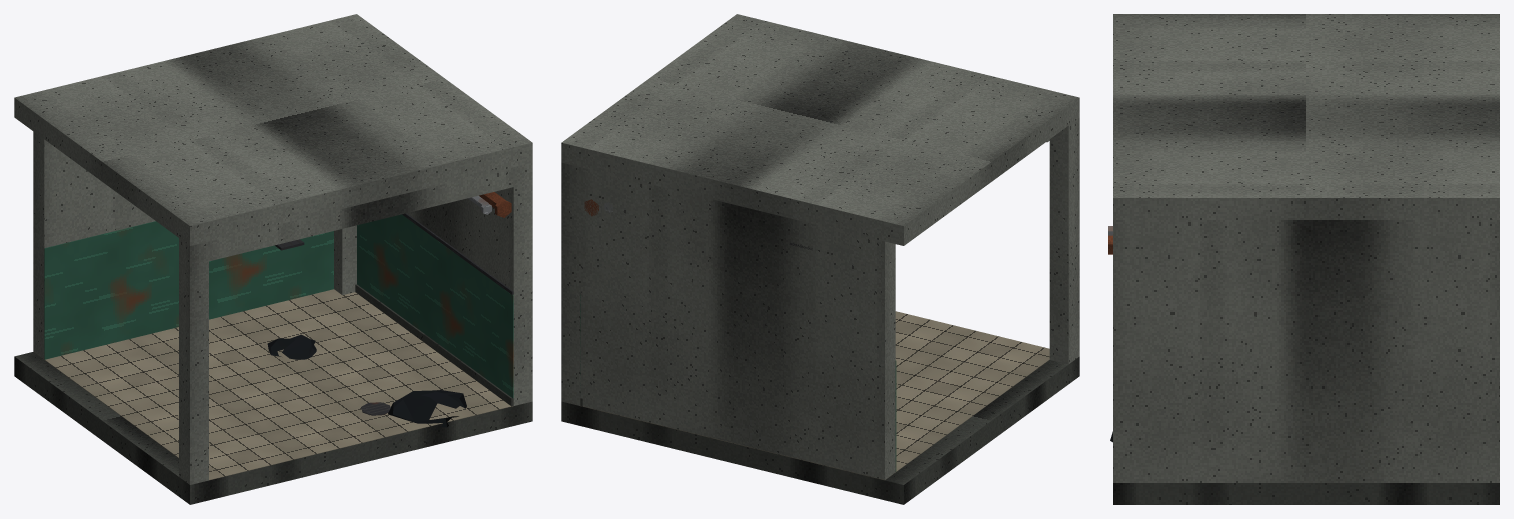
Rendered from corridor_corner.glb.
The picture shows the model from 3 angles, left to right: view 1: azimuth 30°, elevation 25°; view 2: azimuth 150°, elevation 25°; view 3: azimuth 270°, elevation 25°; orthographic projection. The views are drawn at different scales.
Parts seen in each view (by area): view 1: corridor_corner; view 2: corridor_corner; view 3: corridor_corner.
Part boxes in pixels (x1=…): corridor_corner: x1=14, y1=14, x2=532, y2=504; corridor_corner: x1=561, y1=14, x2=1079, y2=504; corridor_corner: x1=1108, y1=14, x2=1499, y2=504.
Size of what is drawn, in the model's own units: 4.5 by 3.5 by 4.05.
10 materials, 8 textured.
